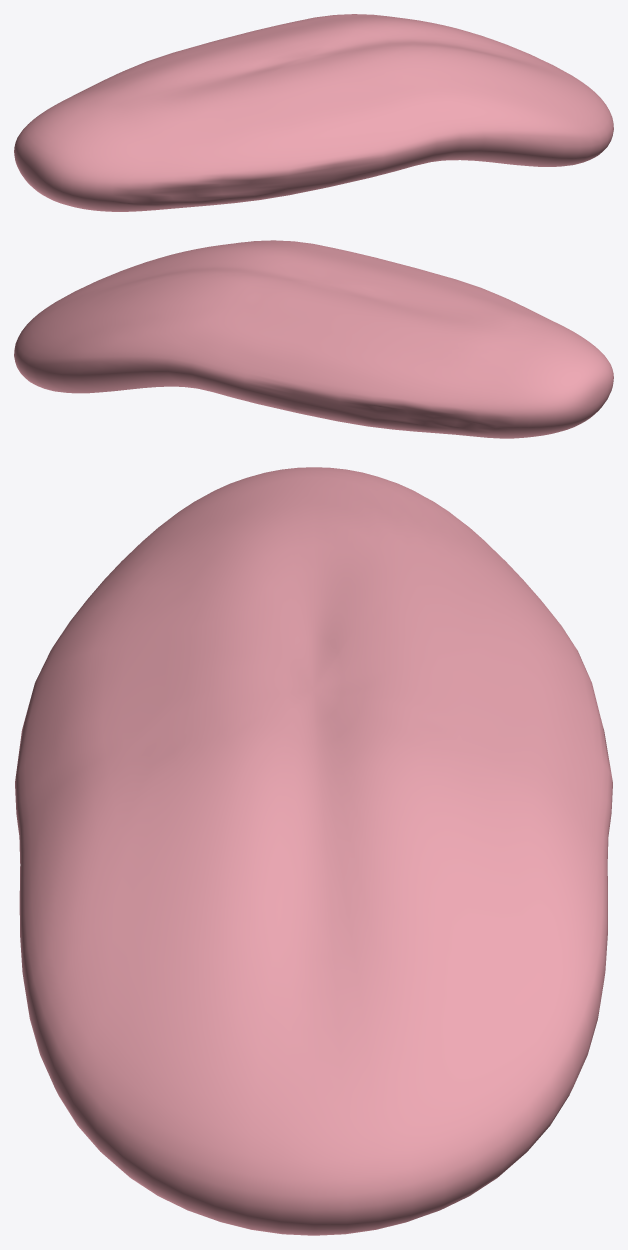
Rendered from lengua.glb.
The picture shows the model from 3 angles, top to bottom: view 1: azimuth 30°, elevation 25°; view 2: azimuth 150°, elevation 25°; view 3: azimuth 270°, elevation 25°; orthographic projection. The views are drawn at different scales.
Visible parts, largest first — view 1: lengua; view 2: lengua; view 3: lengua.
Boxes of the visible parts, x1=… form: lengua: x1=14, y1=14, x2=613, y2=211; lengua: x1=14, y1=240, x2=613, y2=438; lengua: x1=15, y1=467, x2=612, y2=1235.
Bounding box in the file's own units: 4.4 × 1.1 × 2.
